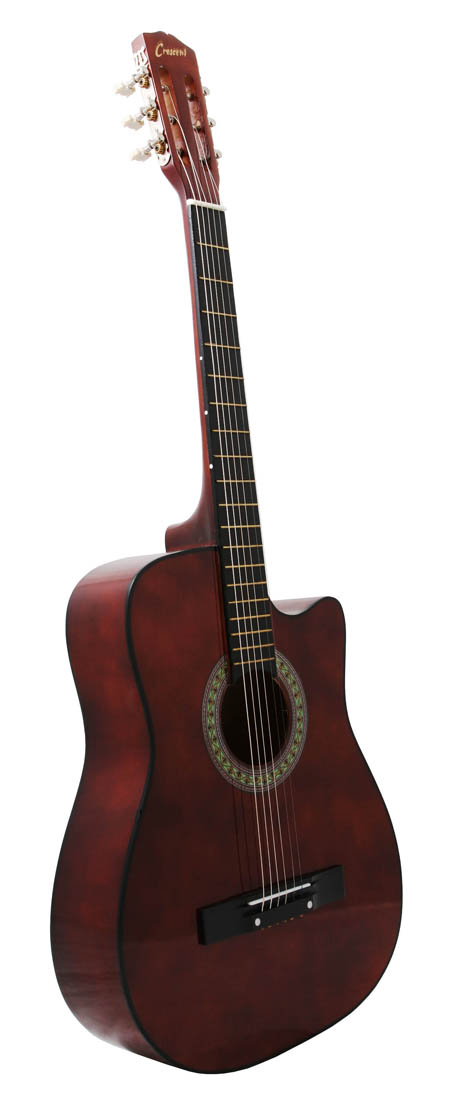guitar: (46, 33, 411, 1079)
